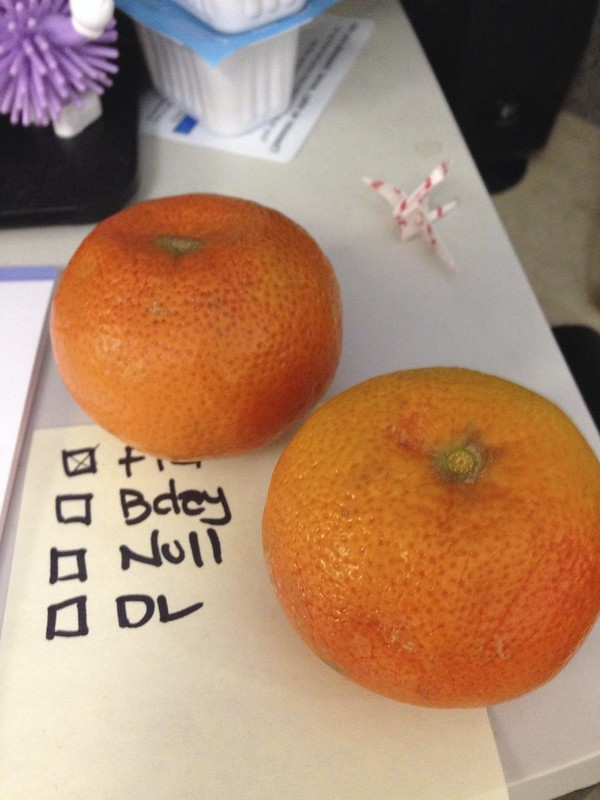orange: (268, 364, 600, 724), (51, 188, 344, 456)
